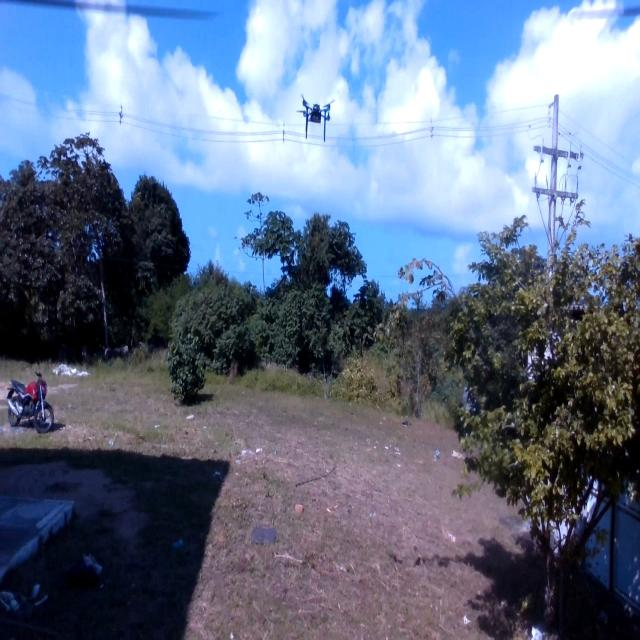-uav-: (289, 86, 338, 142)
